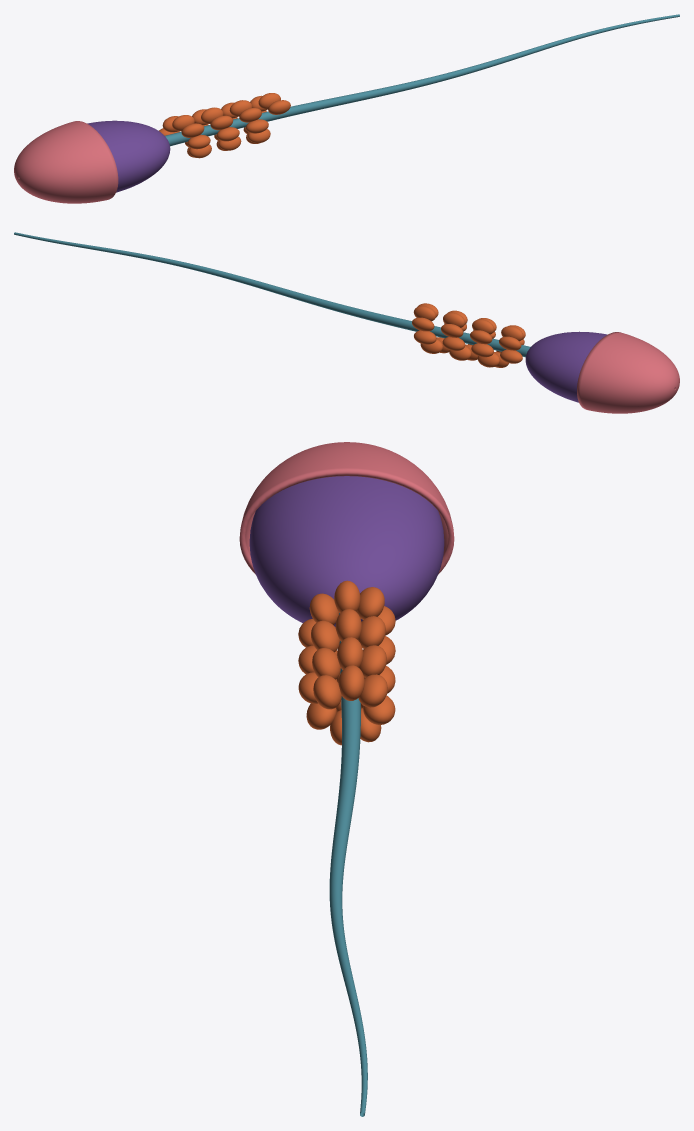
File: sperm-cell.glb
3 renders of one model, top to bottom at view 1: azimuth 30°, elevation 25°; view 2: azimuth 150°, elevation 25°; view 3: azimuth 270°, elevation 25°, orthographic. The views are drawn at different scales.
Parts seen in each view (by area): view 1: acrosome, mitochondria, nucleus, flagellum; view 2: acrosome, mitochondria, nucleus, flagellum; view 3: nucleus, mitochondria, acrosome, flagellum.
Boxes of the visible parts, <box> form: acrosome: <box>14,121,118,203</box>; mitochondria: <box>159,93,290,158</box>; nucleus: <box>87,120,170,192</box>; flagellum: <box>165,14,679,146</box>; acrosome: <box>577,332,679,413</box>; mitochondria: <box>412,303,525,367</box>; nucleus: <box>525,331,607,402</box>; flagellum: <box>14,232,530,357</box>; nucleus: <box>249,476,444,626</box>; mitochondria: <box>298,580,395,745</box>; acrosome: <box>239,442,454,574</box>; flagellum: <box>329,613,367,1116</box>.
Bounding box in the file's own units: 9.81 × 0.9688 × 1.39.
